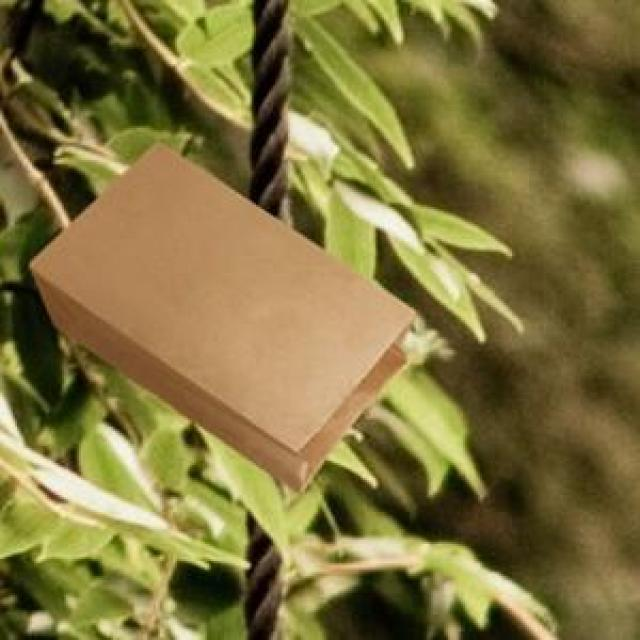paper: (26, 139, 410, 489)
